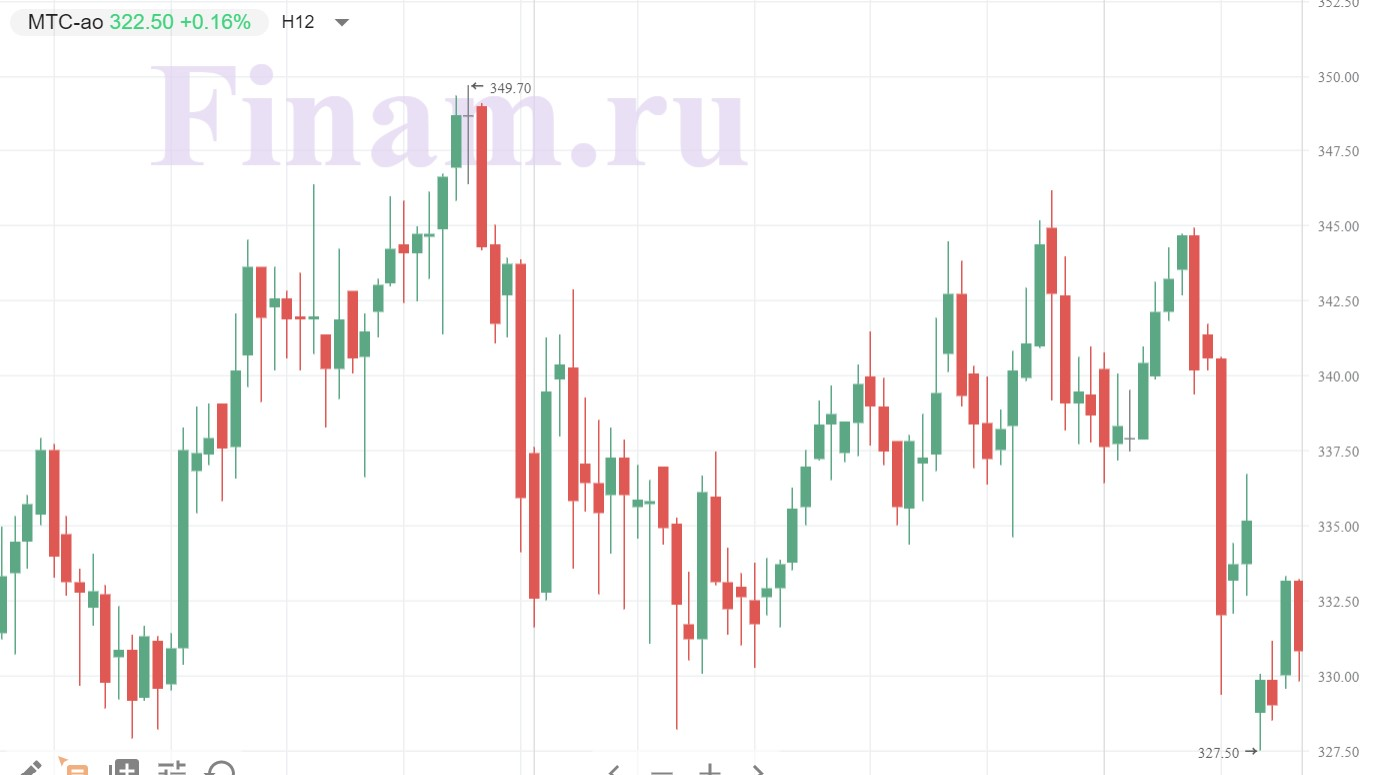eveningDojiStar: (450, 70, 487, 280)
tripleTops: (926, 185, 1237, 411)
